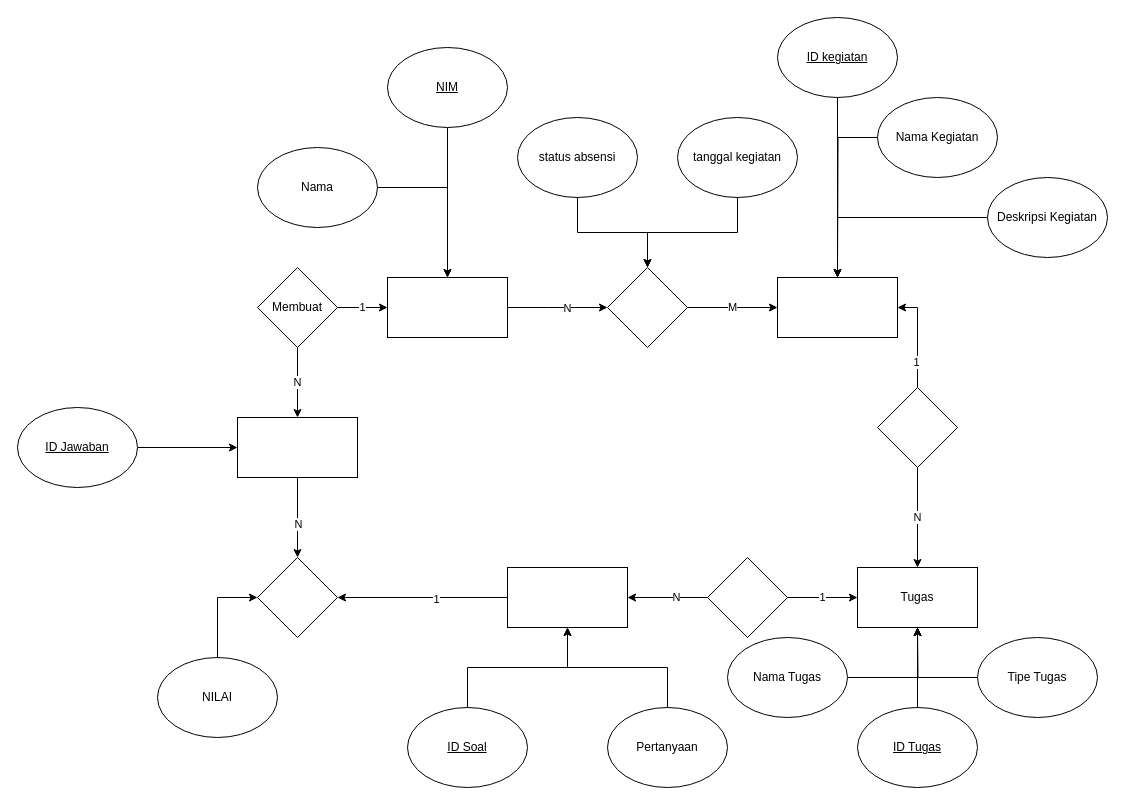
Image size: 1125x805. Some labels were removed from this diagram. Each missing label, with the centre of its shape:
"Jawaban" belongs at point (297, 447).
"Kegiatan" belongs at point (837, 307).
"mahasiswa" belongs at point (447, 307).
"memberi" belongs at point (917, 427).
"Mencocokkan" belongs at point (297, 597).
"mengikuti" belongs at point (647, 307).
"Soal" belongs at point (567, 597).
"Terdiri dari" belongs at point (747, 597).
